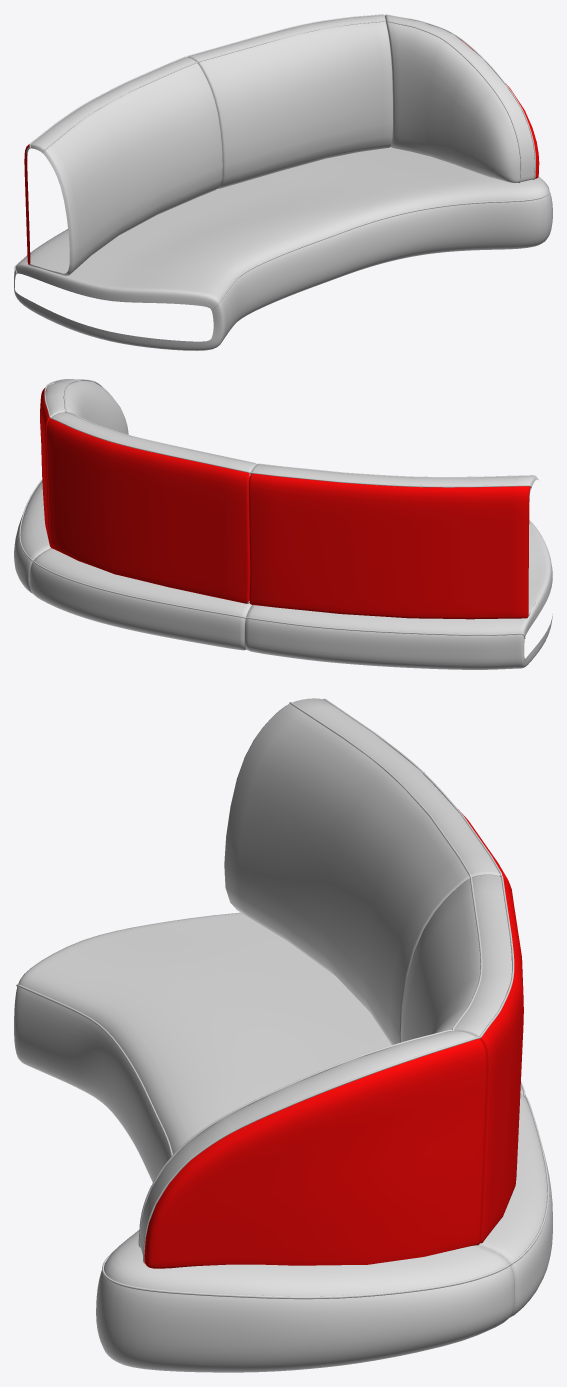
File: levante_m_male_mirror.gltf
3 views of the same model, one above another, from view 1: azimuth 30°, elevation 25°; view 2: azimuth 150°, elevation 25°; view 3: azimuth 270°, elevation 25° (orthographic). The views are drawn at different scales.
Visible parts, largest first — view 1: levante_m_male001; view 2: levante_m_male001; view 3: levante_m_male001.
Boxes of the visible parts, x1=… form: levante_m_male001: x1=14, y1=14, x2=552, y2=350; levante_m_male001: x1=14, y1=379, x2=552, y2=669; levante_m_male001: x1=14, y1=698, x2=552, y2=1372.
Bounding box in the file's own units: 2.02 × 0.6903 × 1.15.
